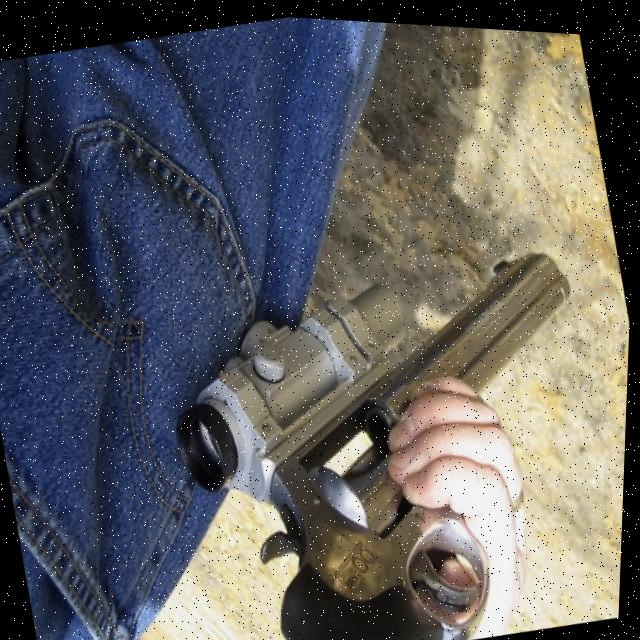pistol: (147, 220, 634, 640)
